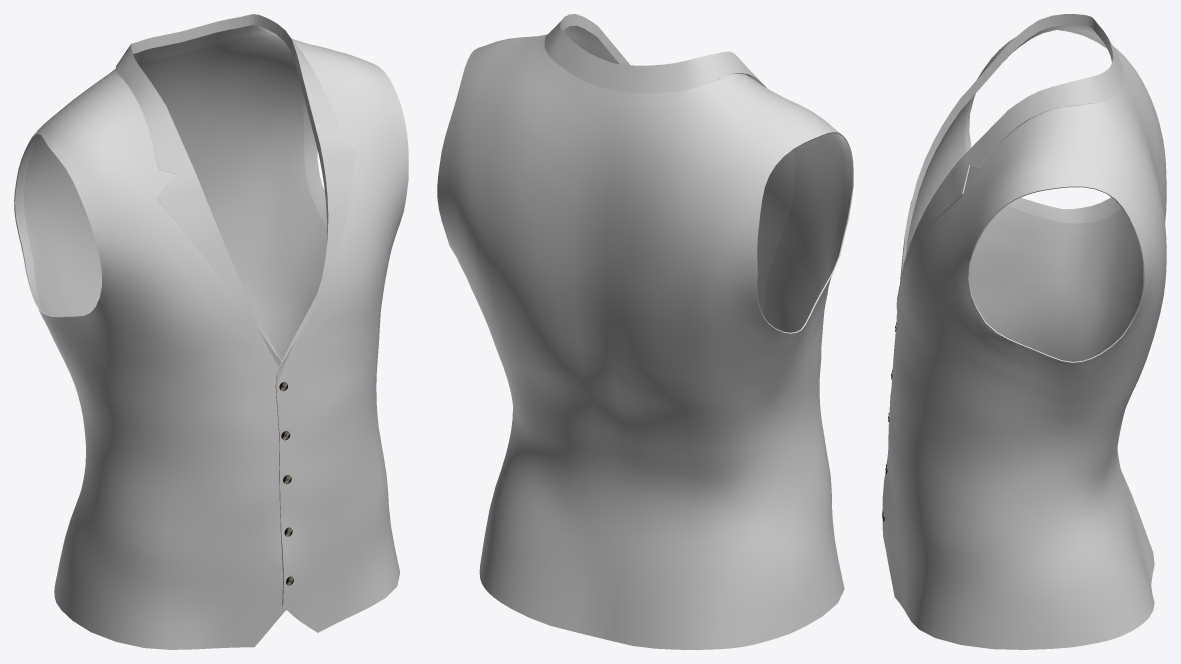
File: SM_CarlosSA_Waistcoat_FrontButtons_SB5Pointed.fbx
3 renders of one model, left to right at view 1: azimuth 30°, elevation 25°; view 2: azimuth 150°, elevation 25°; view 3: azimuth 270°, elevation 25°, orthographic. The views are drawn at different scales.
Parts seen in each view (by area): view 1: SM_CarlosSA_Waistcoat_FrontButtons_SB5Pointed; view 2: SM_CarlosSA_Waistcoat_FrontButtons_SB5Pointed; view 3: SM_CarlosSA_Waistcoat_FrontButtons_SB5Pointed.
Part boxes in pixels (box(x1,y1,x2,y2)): SM_CarlosSA_Waistcoat_FrontButtons_SB5Pointed: box(14, 14, 408, 649); SM_CarlosSA_Waistcoat_FrontButtons_SB5Pointed: box(437, 14, 853, 649); SM_CarlosSA_Waistcoat_FrontButtons_SB5Pointed: box(882, 14, 1166, 649).
Size of the model in its own units: 0.3797 by 0.592 by 0.2829.
